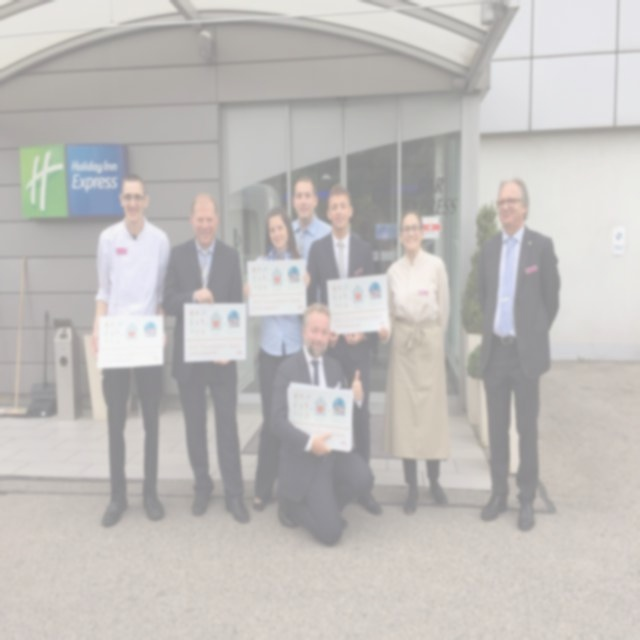pessoa: (473, 175, 565, 528), (161, 192, 251, 526), (300, 182, 387, 520), (90, 172, 170, 528), (270, 302, 376, 547), (377, 208, 452, 516), (242, 204, 312, 514), (290, 175, 333, 308)
